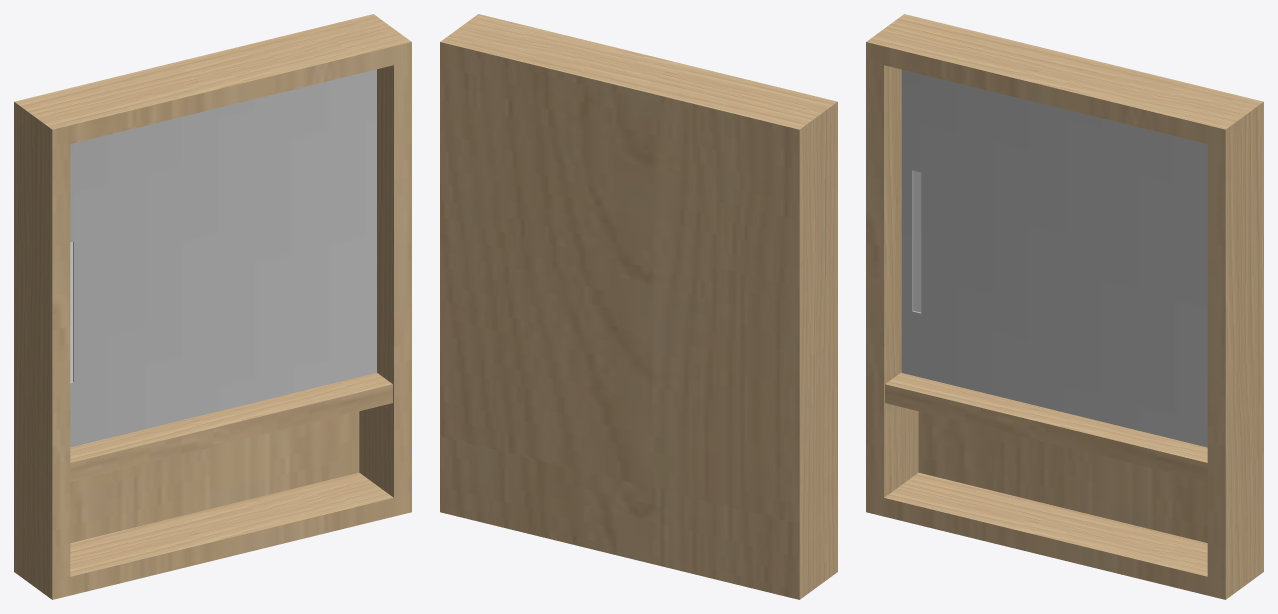
The model's file is mirror 5.glb.
3 views of the same model, side by side, from view 1: azimuth 30°, elevation 25°; view 2: azimuth 150°, elevation 25°; view 3: azimuth 330°, elevation 25° (orthographic).
Visible parts, largest first — view 1: frame, mirror; view 2: frame; view 3: frame, mirror.
Boxes of the visible parts, x1,y1,x2,y2 form: frame: (14, 14, 411, 599); mirror: (70, 69, 376, 447); frame: (440, 14, 837, 599); frame: (866, 14, 1263, 599); mirror: (901, 69, 1207, 447).
Size of the model in its own units: 28.98 by 36.22 by 5.34.
Materials: 2 (2 with a texture image).
